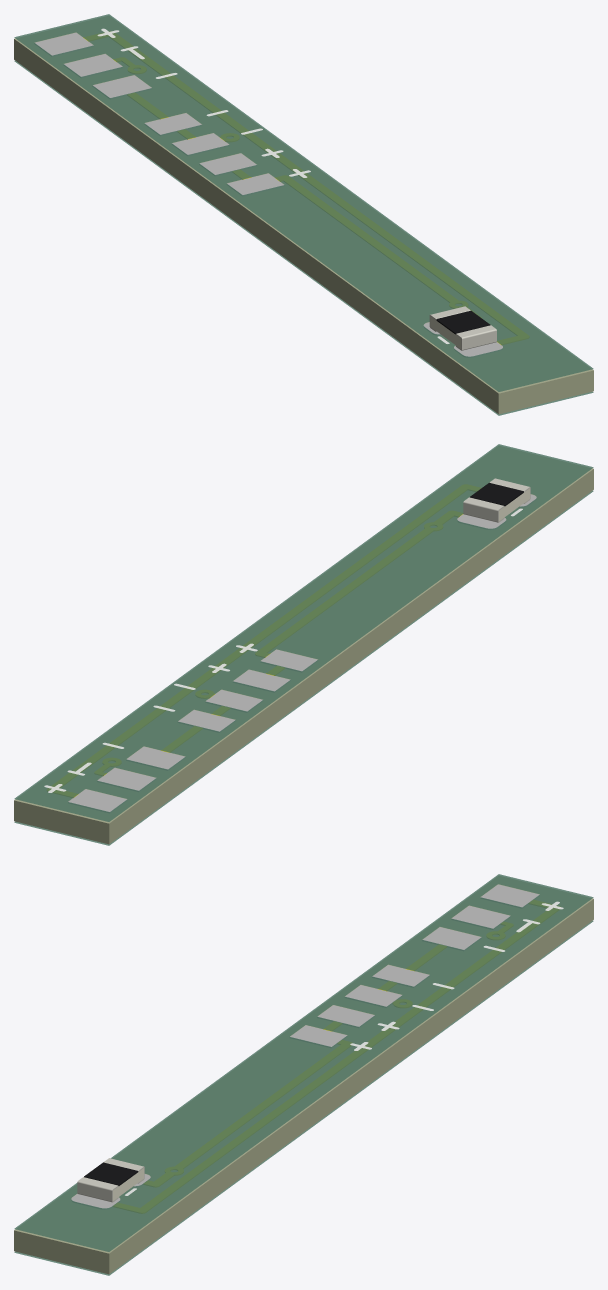
The model's file is NIVA-cartridge-PCBA.glb.
The picture shows the model from 3 angles, top to bottom: view 1: azimuth 30°, elevation 25°; view 2: azimuth 150°, elevation 25°; view 3: azimuth 330°, elevation 25°; orthographic projection.
Parts seen in each view (by area): view 1: =>[0:1:1:11], =>[0:1:1:9], =>[0:1:1:5], =>[0:1:1:4], =>[0:1:1:3], =>[0:1:1:10], =>[0:1:1:7]; view 2: =>[0:1:1:11], =>[0:1:1:9], =>[0:1:1:4], =>[0:1:1:5], =>[0:1:1:3], =>[0:1:1:10], =>[0:1:1:7]; view 3: =>[0:1:1:11], =>[0:1:1:9], =>[0:1:1:4], =>[0:1:1:5], =>[0:1:1:3], =>[0:1:1:10], =>[0:1:1:7].
Part boxes in pixels (x1,y1,x2,y2): =>[0:1:1:11]: [14, 16, 593, 414]; =>[0:1:1:9]: [14, 14, 593, 391]; =>[0:1:1:5]: [35, 32, 502, 357]; =>[0:1:1:4]: [83, 33, 528, 344]; =>[0:1:1:3]: [429, 306, 496, 350]; =>[0:1:1:10]: [14, 60, 593, 415]; =>[0:1:1:7]: [97, 28, 449, 343]; =>[0:1:1:11]: [14, 446, 593, 844]; =>[0:1:1:9]: [14, 444, 593, 821]; =>[0:1:1:4]: [47, 485, 480, 797]; =>[0:1:1:5]: [68, 494, 536, 812]; =>[0:1:1:3]: [463, 478, 530, 522]; =>[0:1:1:10]: [14, 490, 593, 845]; =>[0:1:1:7]: [44, 508, 522, 792]; =>[0:1:1:11]: [14, 876, 593, 1274]; =>[0:1:1:9]: [14, 874, 593, 1251]; =>[0:1:1:4]: [113, 900, 558, 1213]; =>[0:1:1:5]: [71, 884, 539, 1209]; =>[0:1:1:3]: [77, 1158, 144, 1202]; =>[0:1:1:10]: [14, 920, 593, 1275]; =>[0:1:1:7]: [125, 901, 563, 1195].
Size of the model in its own units: 0.0034 by 0.00132 by 0.03.
